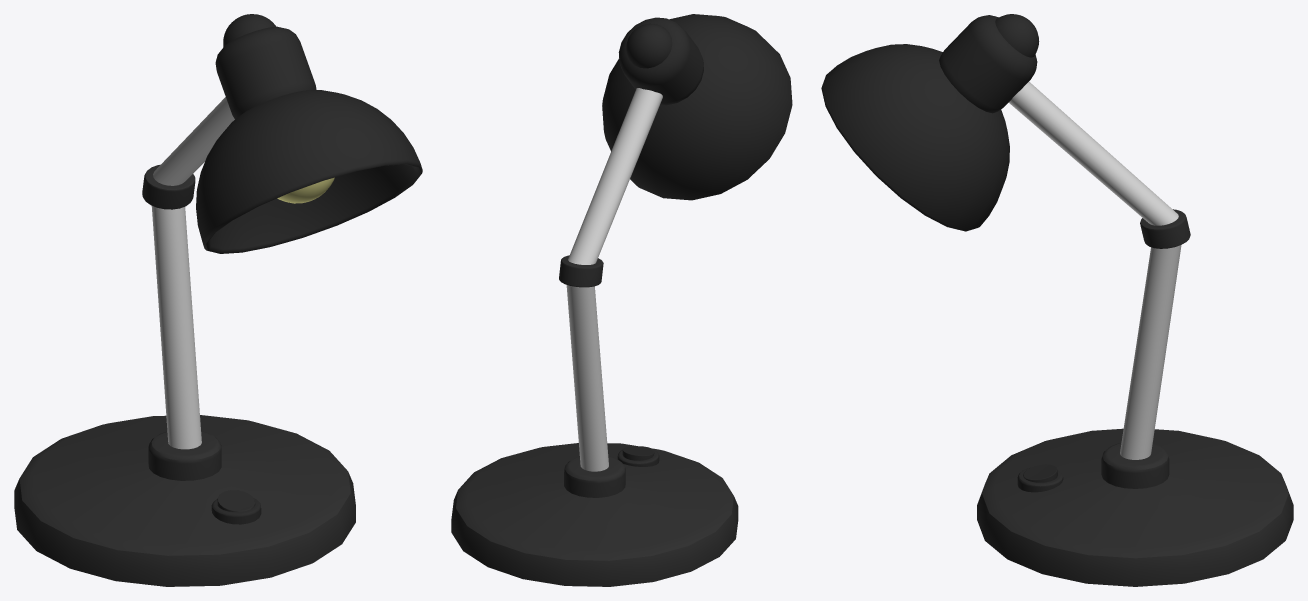
Rendered from DeskLamp.fbx.
The picture shows the model from 3 angles, left to right: view 1: azimuth 30°, elevation 25°; view 2: azimuth 150°, elevation 25°; view 3: azimuth 270°, elevation 25°; orthographic projection. The views are drawn at different scales.
Visible parts, largest first — view 1: Base, LampShade, Back, Button, CirclularBack; view 2: Base, LampShade, Back, CirclularBack, Button; view 3: Base, LampShade, Back, CirclularBack, Button.
Boxes of the visible parts, <box> form: Base: <box>14,97,355,586</box>; LampShade: <box>196,90,422,253</box>; Back: <box>215,26,316,119</box>; Button: <box>211,490,261,524</box>; CirclularBack: <box>223,14,275,46</box>; Base: <box>451,88,738,586</box>; LampShade: <box>602,14,792,200</box>; Back: <box>618,17,703,105</box>; CirclularBack: <box>626,23,672,68</box>; Button: <box>617,446,659,466</box>; Base: <box>977,81,1293,586</box>; LampShade: <box>821,44,1009,231</box>; Back: <box>939,15,1037,113</box>; CirclularBack: <box>995,14,1039,57</box>; Button: <box>1017,464,1063,492</box>.
Size of the model in its own units: 10.55 by 18.54 by 15.75.
Materials: 4 (1 with a texture image).
